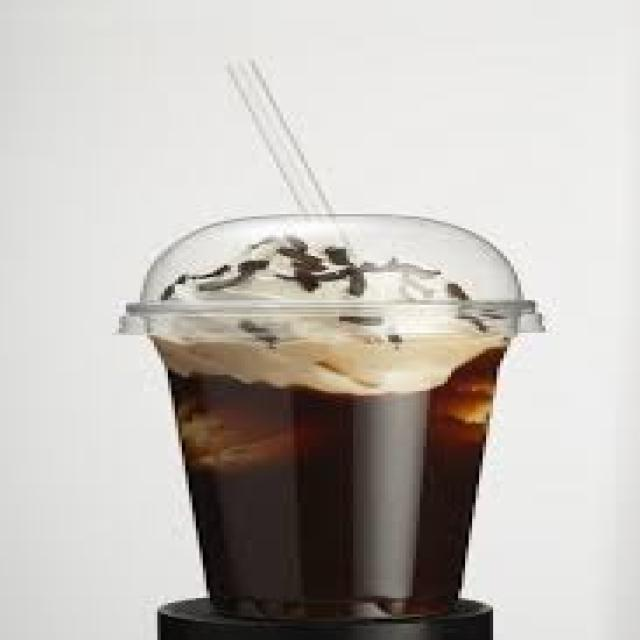cup: (145, 329, 516, 639)
